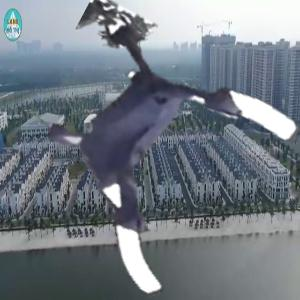drone: (24, 35, 274, 285)
